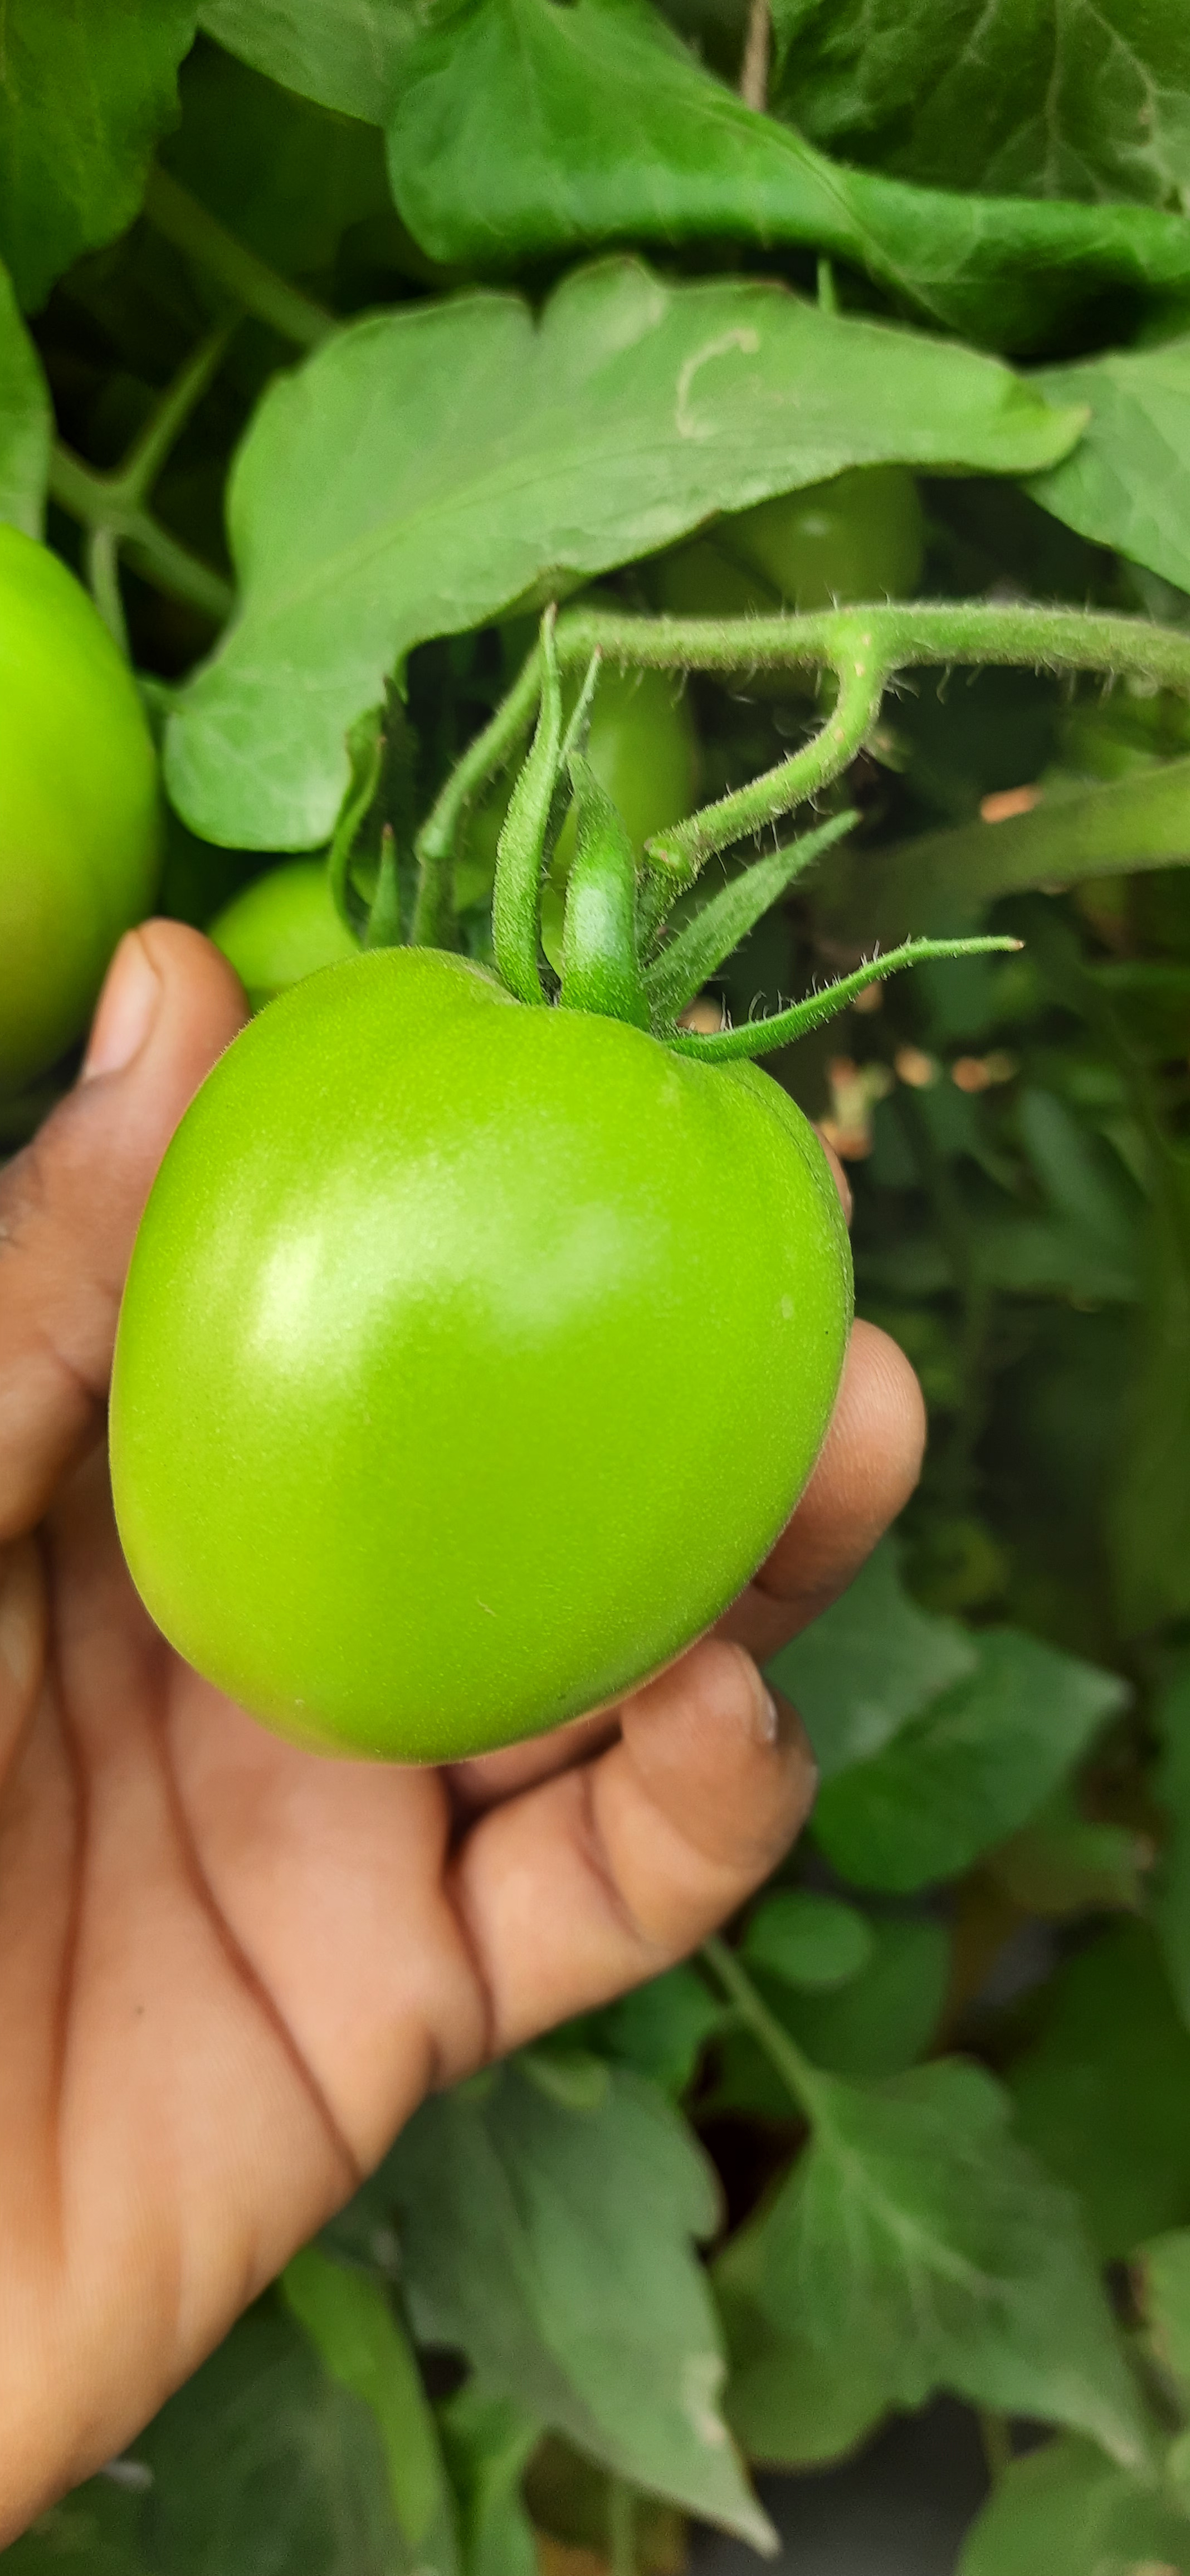raw_tomato: (95, 836, 955, 1768)
